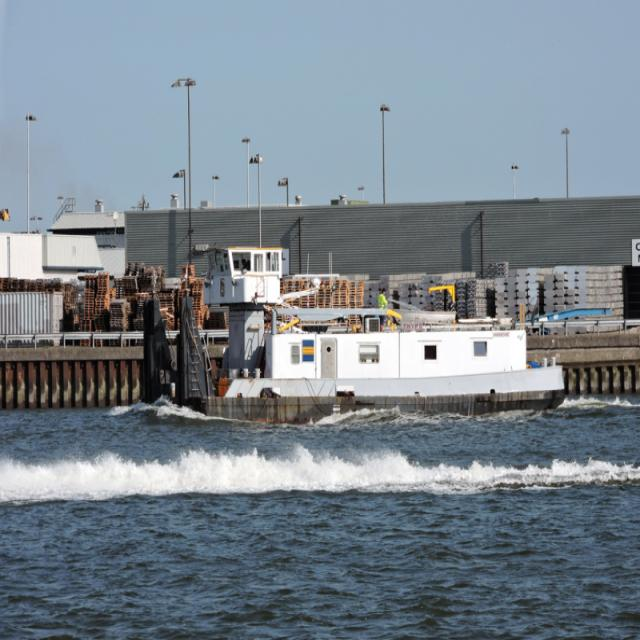tugboat: (139, 239, 569, 439)
